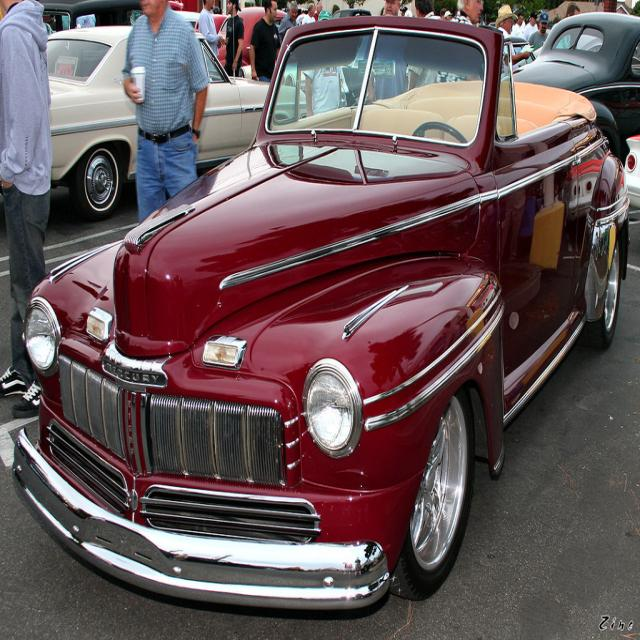car: (9, 17, 630, 605)
